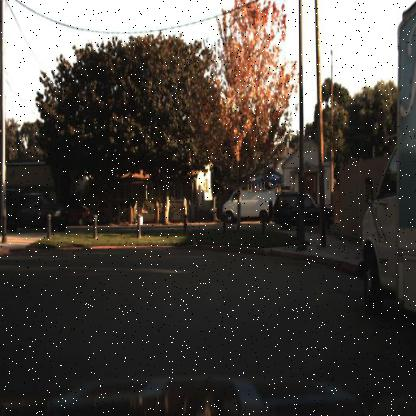car: (0, 189, 70, 238), (259, 184, 320, 236), (222, 182, 289, 228), (60, 200, 98, 231)
truck: (359, 4, 415, 329), (222, 175, 280, 225)
